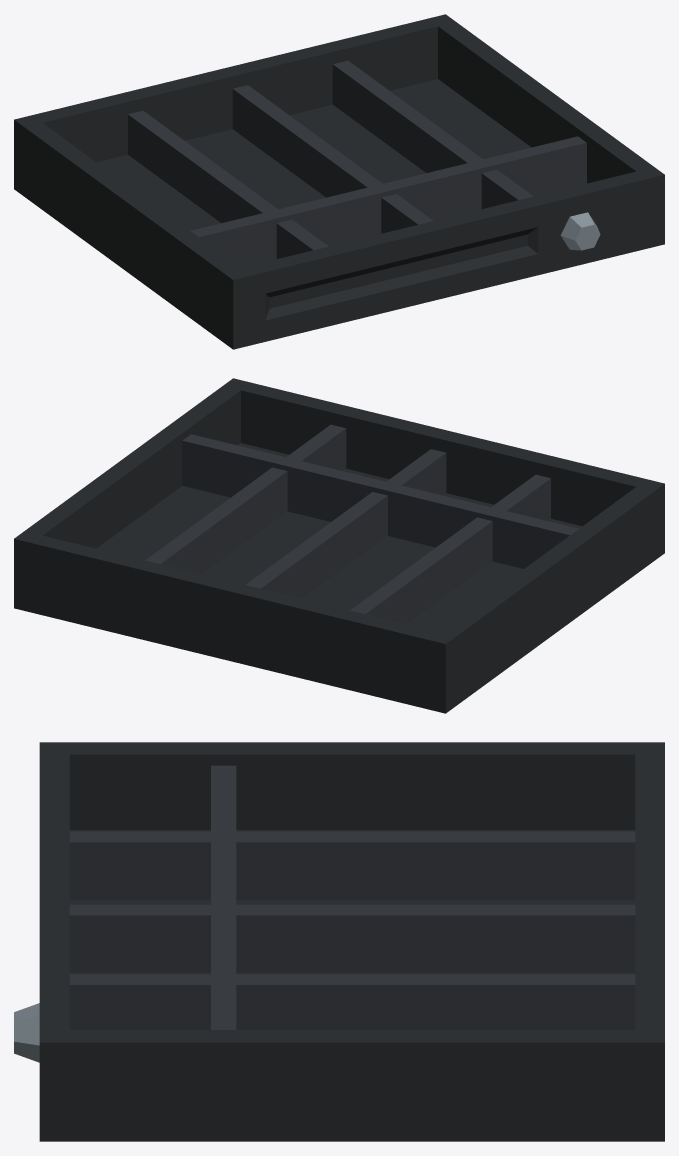
The model's file is SM_Prop_Shop_Cash_Register_01_Tray_01.obj.
3 views of the same model, one above another, from view 1: azimuth 30°, elevation 25°; view 2: azimuth 150°, elevation 25°; view 3: azimuth 270°, elevation 25° (orthographic). The views are drawn at different scales.
Parts seen in each view (by area): view 1: SM_Prop_Shop_Cash_Register_01_Tray_01_0; view 2: SM_Prop_Shop_Cash_Register_01_Tray_01_0; view 3: SM_Prop_Shop_Cash_Register_01_Tray_01_0.
Boxes of the visible parts, x1,y1,x2,y2 form: SM_Prop_Shop_Cash_Register_01_Tray_01_0: (14,14,664,349); SM_Prop_Shop_Cash_Register_01_Tray_01_0: (14,378,664,713); SM_Prop_Shop_Cash_Register_01_Tray_01_0: (14,742,664,1141).
Size of the model in its own units: 0.5965 by 0.0919 by 0.5463.
1 material, 1 textured.
